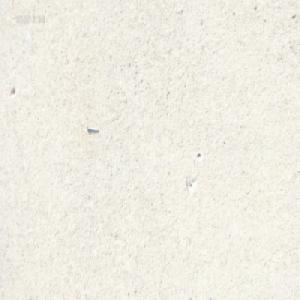Nail: (86, 124, 99, 133)
